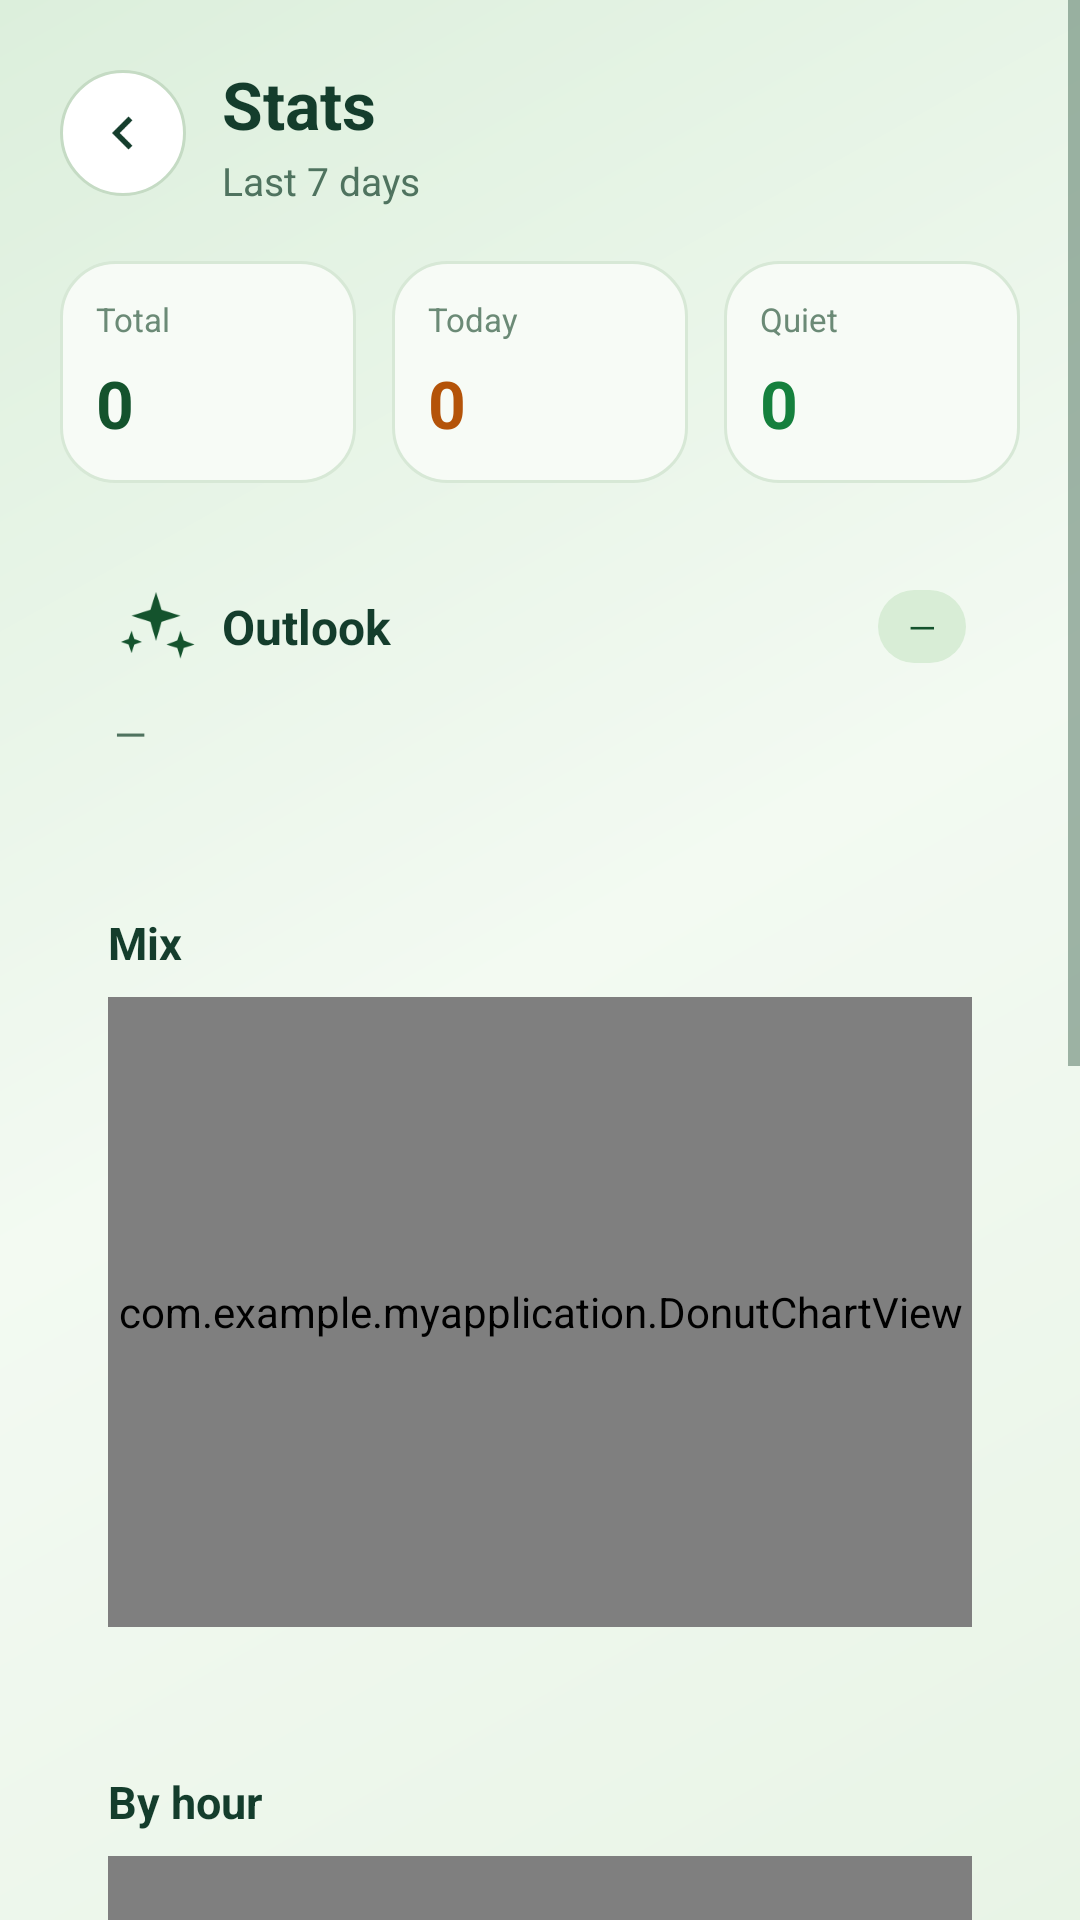

Locate icon controls on the screen. Image size 1080*1920, boxes as (x1, y1, x2, y2).
back: (60, 70, 186, 196)
